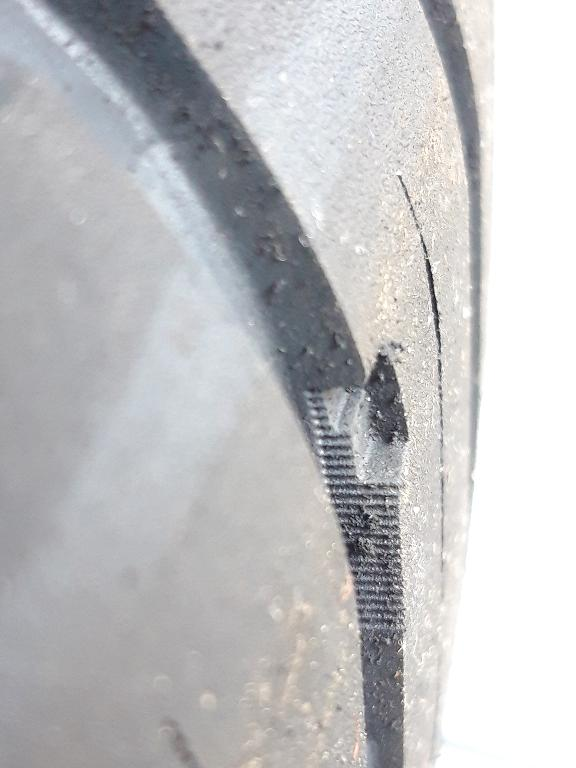temoin:50: (295, 337, 424, 524)
